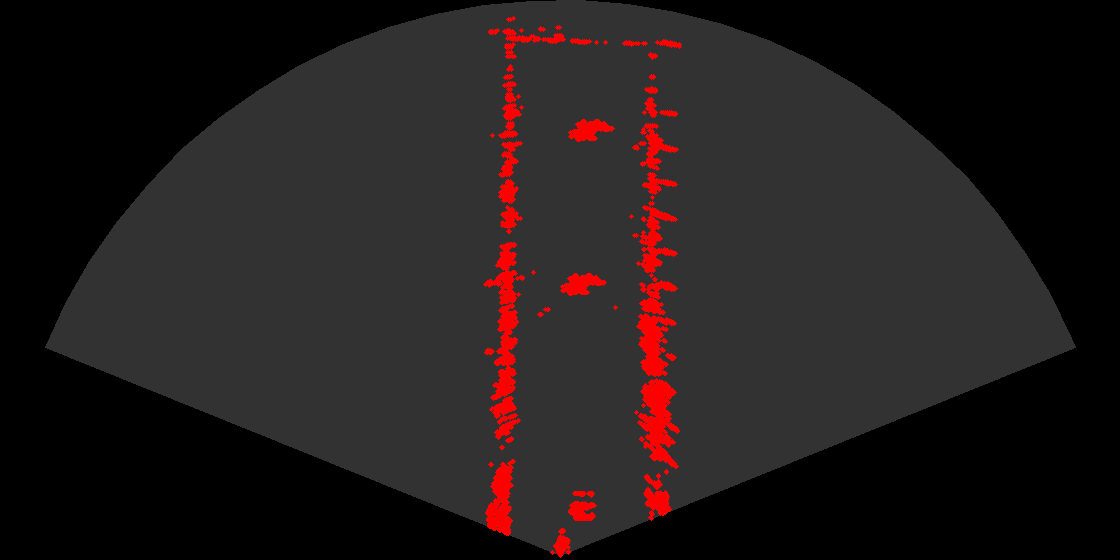AUV: (562, 117, 618, 149), (554, 271, 610, 303)
ball: (548, 483, 608, 524)
